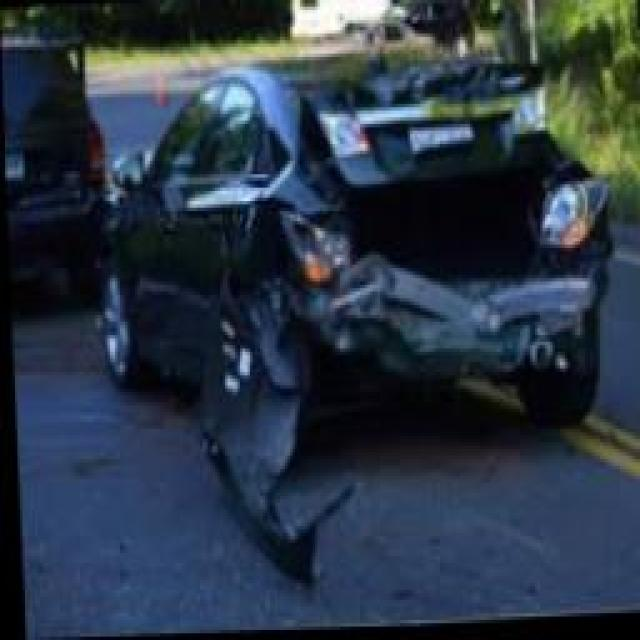Bumper: (282, 261, 598, 375)
Dickey: (348, 151, 553, 288)
Light: (532, 171, 620, 254), (280, 208, 342, 280)
